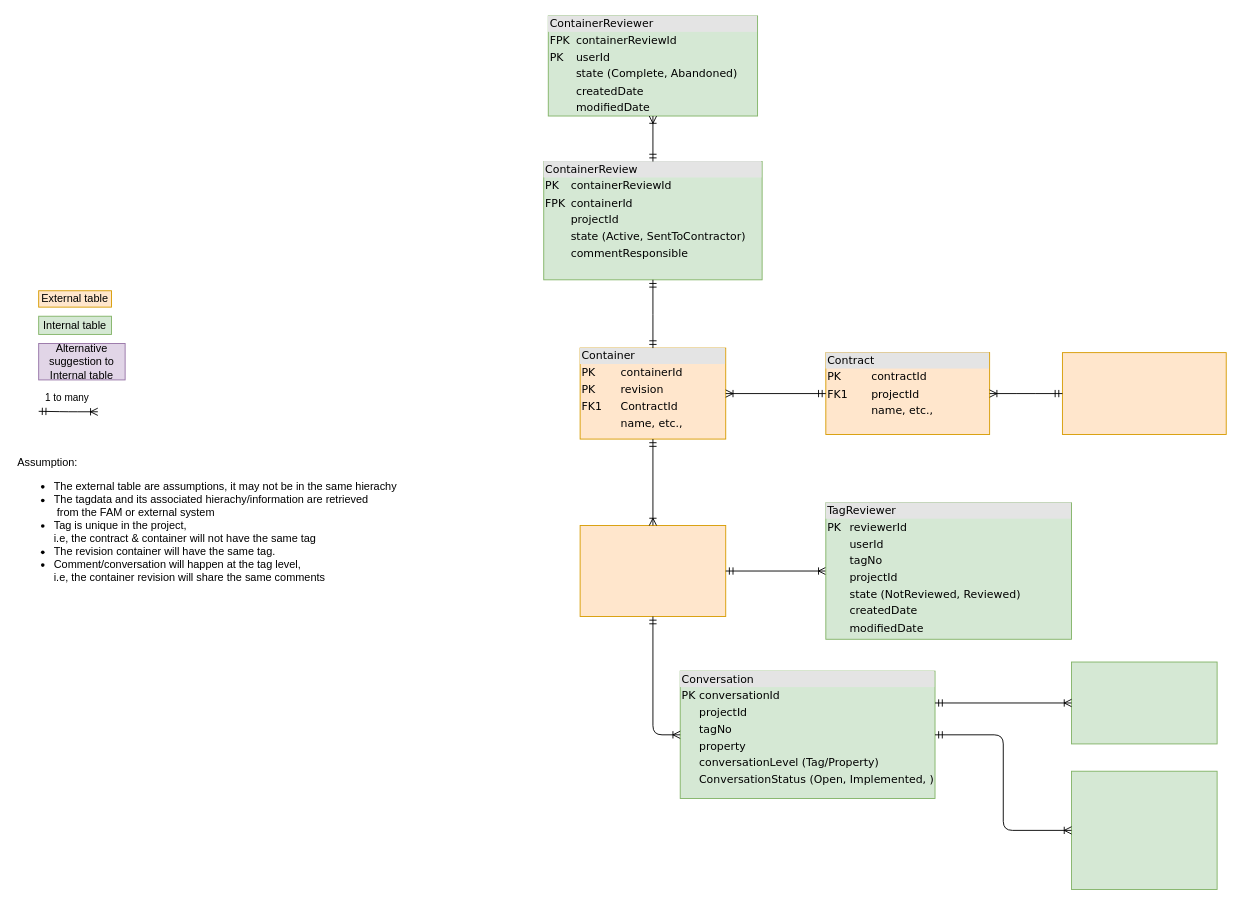
The diagram is 1242 pixels wide and 905 high, and some of its shapes have lost their labels. The centre of each missing label's shape, as x and y in pixels:
Message PK Id FK conversationId userId text isEdited softDeleted: the point at 1144,830
Participant PK userId FPK conversationId createdDate modifiedDate: the point at 1144,702
Project PK projectId projectName, etc.,: the point at 1144,393
Tag PK tagNo name etc.,: the point at 652,571
